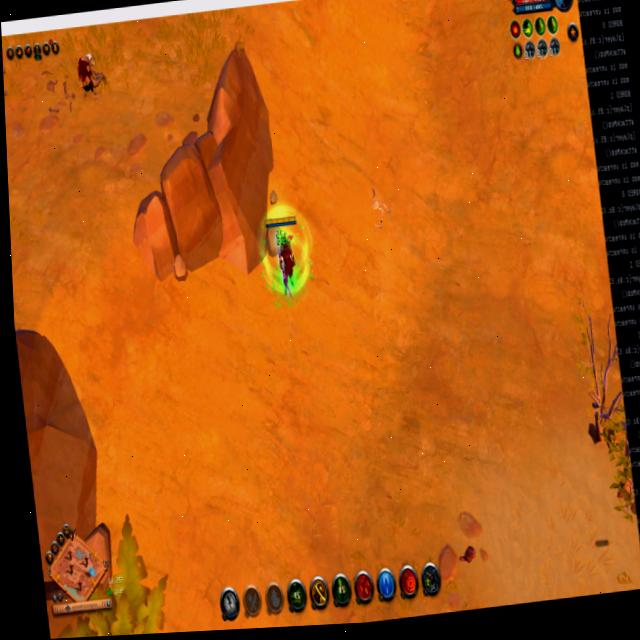ore: (73, 47, 106, 98), (3, 57, 11, 102)
red: (262, 208, 307, 298)
